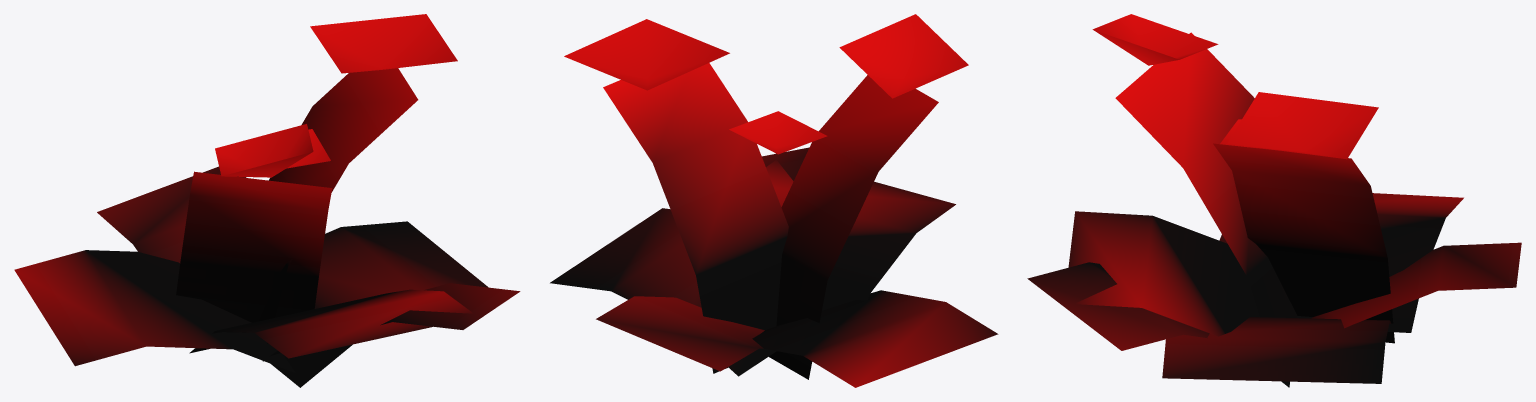
Rendered from flower_red_1.fbx.
3 renders of one model, left to right at view 1: azimuth 30°, elevation 25°; view 2: azimuth 150°, elevation 25°; view 3: azimuth 270°, elevation 25°, orthographic. The views are drawn at different scales.
Parts seen in each view (by area): view 1: flower_red_1; view 2: flower_red_1; view 3: flower_red_1.
Boxes of the visible parts, bbox=[...] form: flower_red_1: bbox=[14, 14, 520, 387]; flower_red_1: bbox=[550, 14, 998, 387]; flower_red_1: bbox=[1027, 14, 1521, 387].
Bounding box in the file's own units: 2.09 × 1.46 × 2.18.
